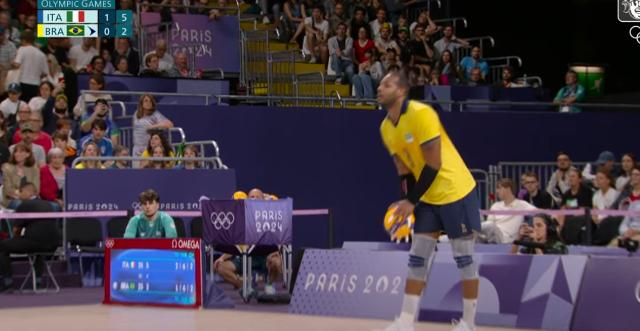bola: (382, 204, 418, 242)
